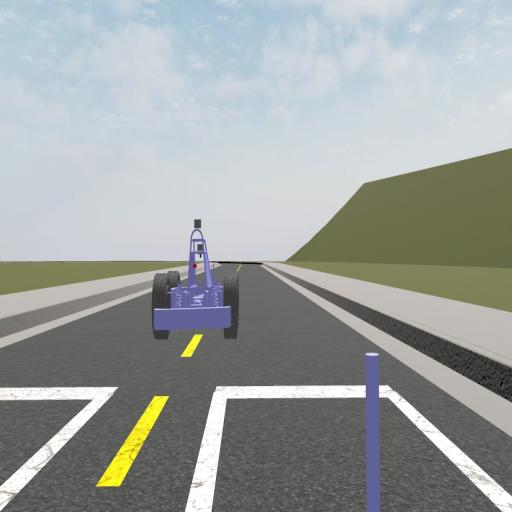ERP-42: (152, 216, 239, 340)
